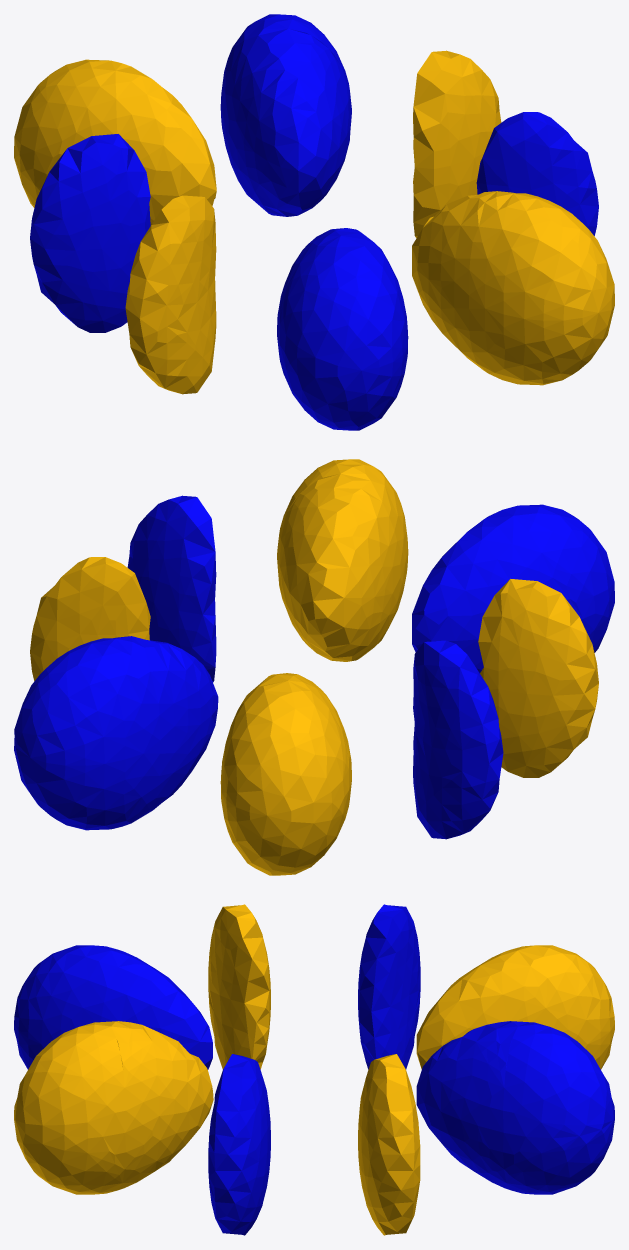
The picture shows the model from 3 angles, top to bottom: view 1: azimuth 30°, elevation 25°; view 2: azimuth 150°, elevation 25°; view 3: azimuth 270°, elevation 25°; orthographic projection. The views are drawn at different scales.
Bounding box in the file's own units: 25.87 × 10.33 × 32.01.
